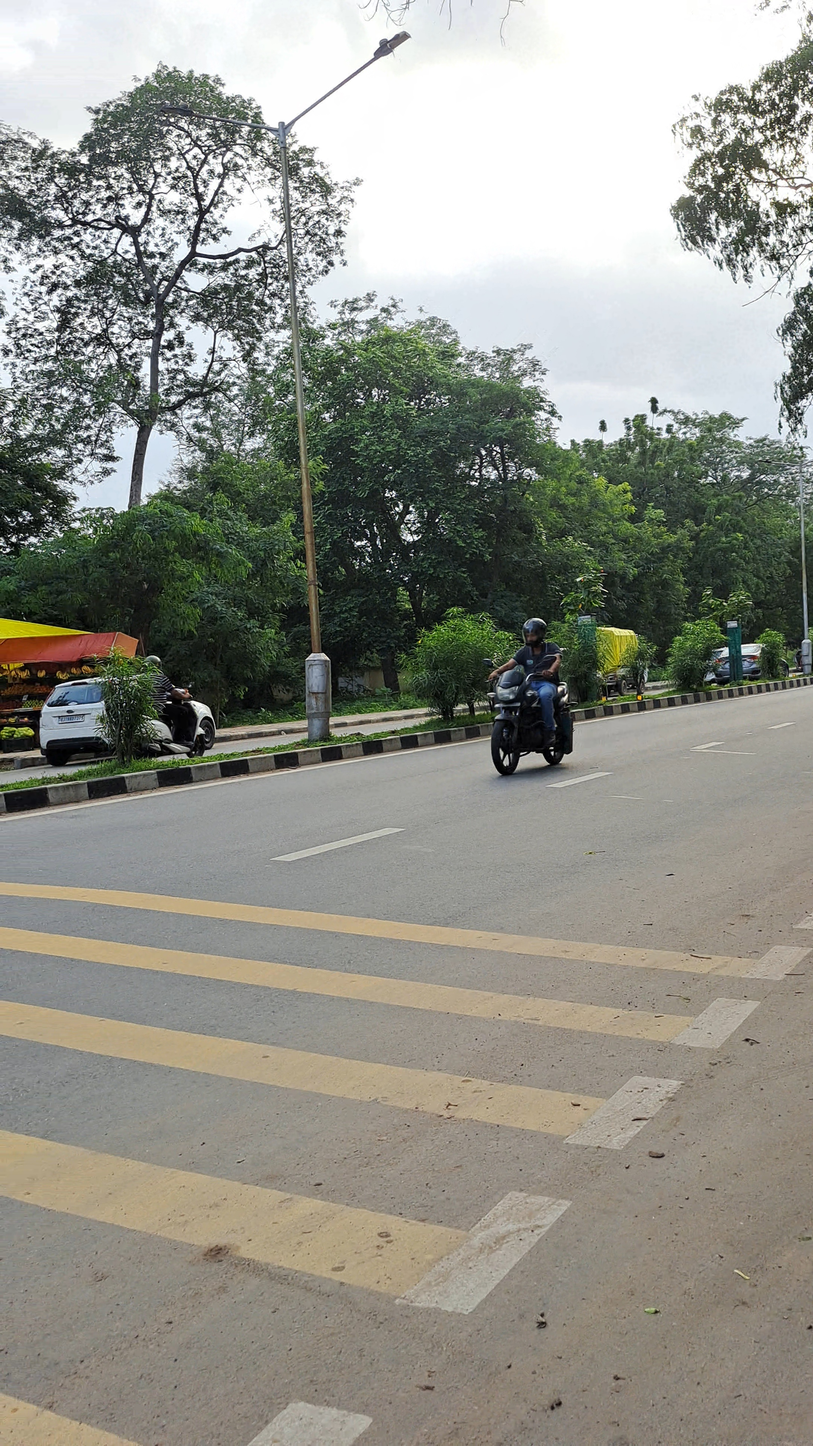BikeWithRider: (478, 610, 584, 781)
Helmet: (515, 613, 554, 651)
